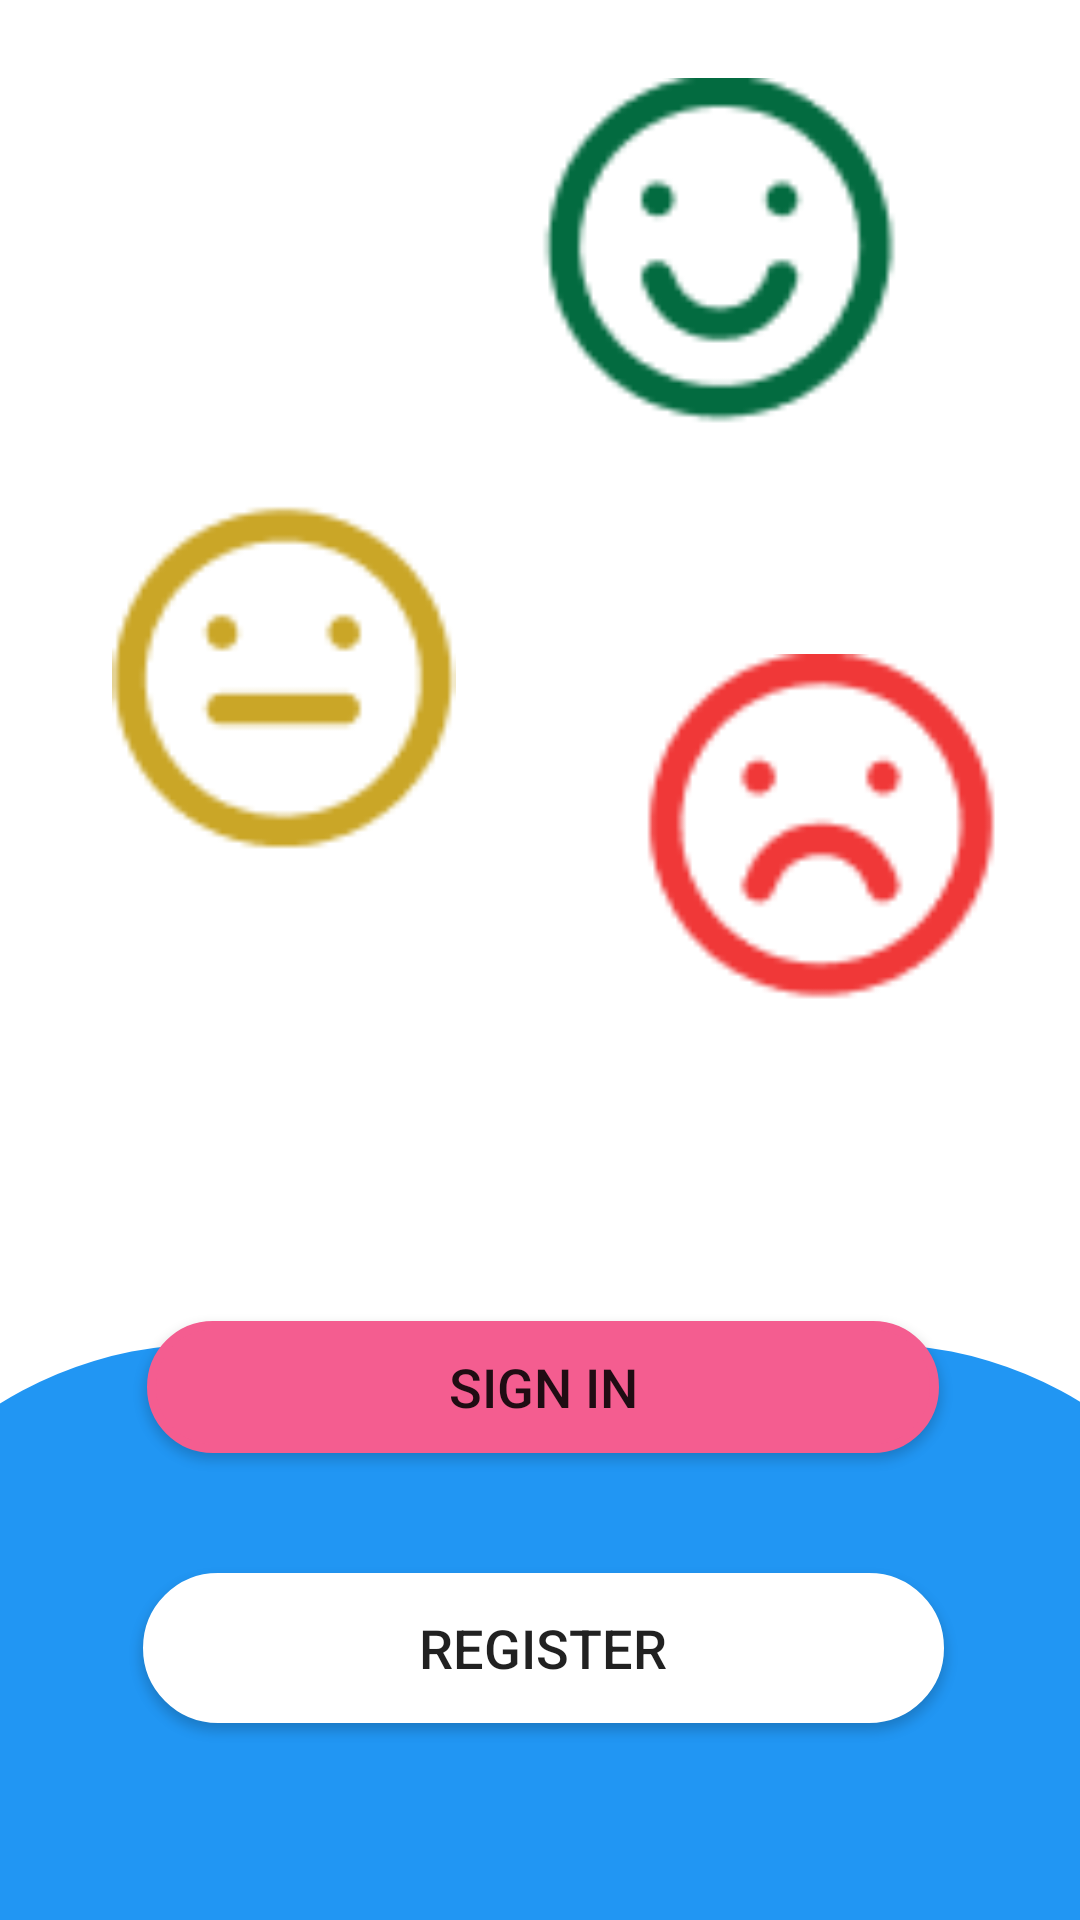

Icons on this 1080×1920 Android screen, each with its box as (x1, y1, x2, y2):
mat dooo: (648, 654, 995, 998)
mat vanggggg: (112, 507, 456, 849)
mat xanhhhhh: (544, 78, 895, 422)
